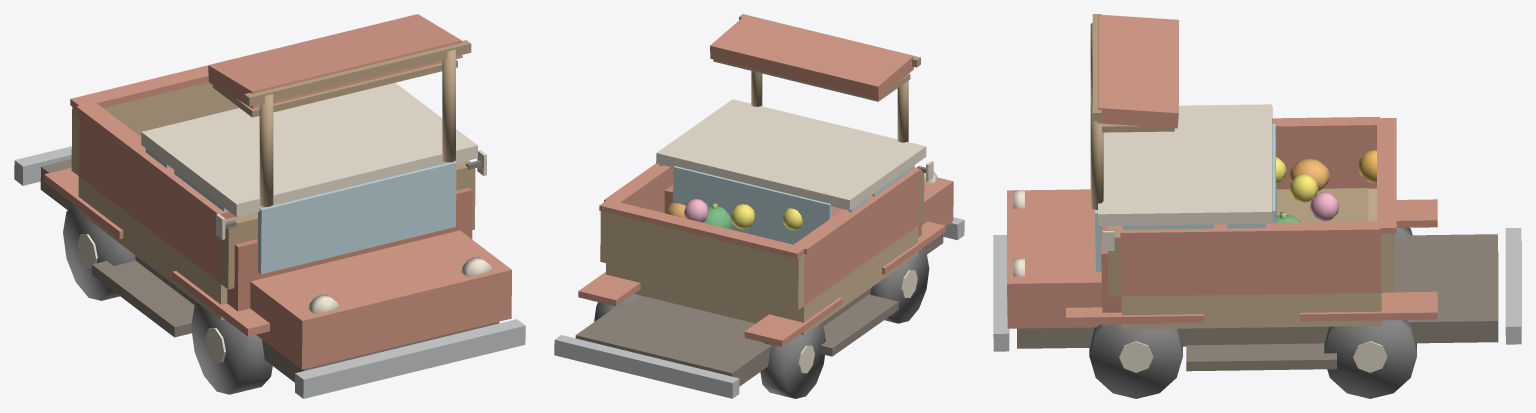
Rendered from shop_truck_drive.fbx.
The picture shows the model from 3 angles, left to right: view 1: azimuth 30°, elevation 25°; view 2: azimuth 150°, elevation 25°; view 3: azimuth 270°, elevation 25°; orthographic projection. The views are drawn at different scales.
Parts seen in each view (by area): view 1: Body_shop_truck, BedWalls_shop_truck, Awning_shop_truck, AwningPosts_shop_truck, Wheel_FL_shop_truck, BedTrunk_shop_truck, Wheel_RL_shop_truck; view 2: Body_shop_truck, BedWalls_shop_truck, Awning_shop_truck, BedTrunk_shop_truck, Wheel_RL_shop_truck, Wheel_FL_shop_truck, Fruits_shop_truck, AwningPosts_shop_truck, Wheel_RR_shop_truck; view 3: Body_shop_truck, BedWalls_shop_truck, BedTrunk_shop_truck, Awning_shop_truck, Wheel_RR_shop_truck, Wheel_FR_shop_truck, Fruits_shop_truck, AwningPosts_shop_truck.
Part boxes in pixels (x1,y1,x2,y2): Body_shop_truck: (14,82,525,398); BedWalls_shop_truck: (70,65,475,289); Awning_shop_truck: (208,14,462,117); AwningPosts_shop_truck: (244,40,471,206); Wheel_FL_shop_truck: (191,302,272,394); BedTrunk_shop_truck: (78,176,227,319); Wheel_RL_shop_truck: (63,204,135,300); Body_shop_truck: (554,99,964,398); BedWalls_shop_truck: (599,163,924,309); Awning_shop_truck: (710,15,913,101); BedTrunk_shop_truck: (606,226,918,335); Wheel_RL_shop_truck: (760,324,825,398); Wheel_FL_shop_truck: (870,248,929,323); Fruits_shop_truck: (666,199,802,230); AwningPosts_shop_truck: (739,14,920,142); Wheel_RR_shop_truck: (594,293,641,321); Body_shop_truck: (993,104,1521,371); BedWalls_shop_truck: (1107,116,1396,296); BedTrunk_shop_truck: (1121,188,1381,329); Awning_shop_truck: (1097,14,1178,132); Wheel_RR_shop_truck: (1324,320,1416,398); Wheel_FR_shop_truck: (1089,324,1182,398); Fruits_shop_truck: (1276,150,1376,222); AwningPosts_shop_truck: (1090,14,1103,209).
Bounding box in the file's own units: 218 × 241 × 406.
